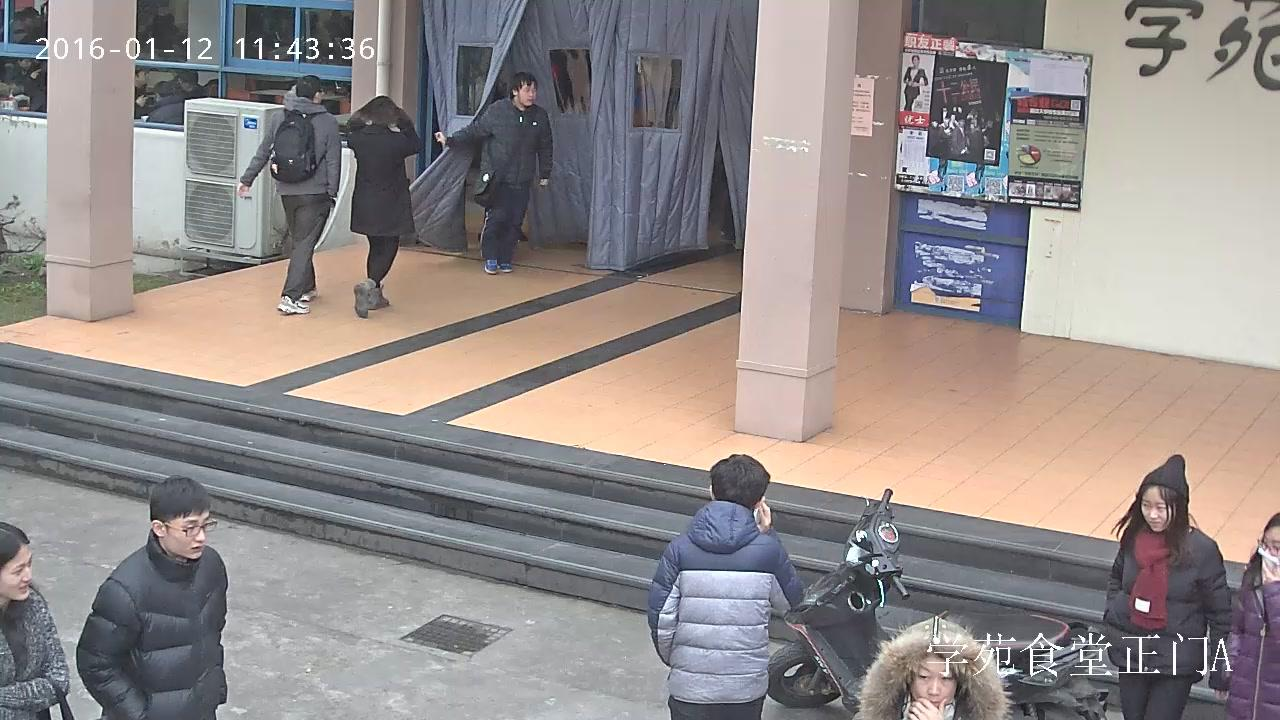person: (646, 453, 806, 720), (73, 475, 230, 720), (1102, 454, 1240, 720), (236, 73, 342, 313), (432, 70, 555, 275), (343, 95, 423, 318), (849, 615, 1013, 720), (0, 519, 74, 720), (1222, 511, 1280, 720), (150, 69, 205, 106), (145, 85, 192, 125), (902, 55, 928, 112), (2, 56, 33, 84)
